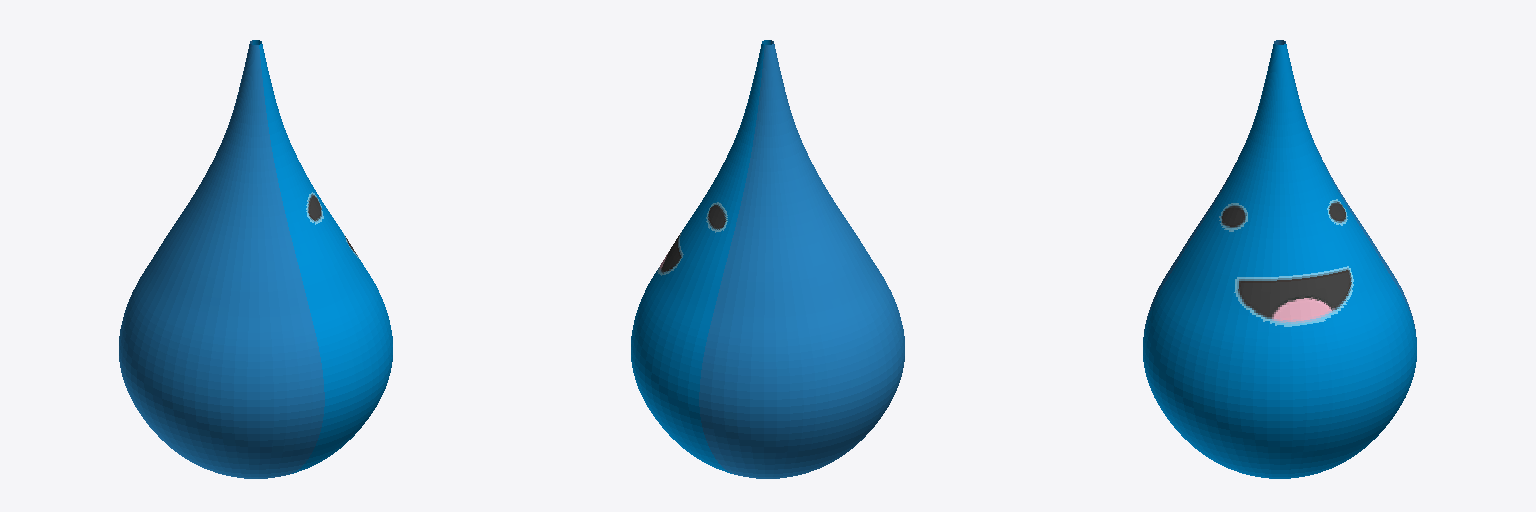
3 views of the same model, side by side, from view 1: azimuth 30°, elevation 25°; view 2: azimuth 150°, elevation 25°; view 3: azimuth 270°, elevation 25° (orthographic).
Parts seen in each view (by area): view 1: Circle_Circle.001; view 2: Circle_Circle.001; view 3: Circle_Circle.001.
Part boxes in pixels (bbox=[...]): Circle_Circle.001: bbox=[119, 40, 392, 478]; Circle_Circle.001: bbox=[631, 40, 904, 478]; Circle_Circle.001: bbox=[1143, 40, 1416, 478].
Bounding box in the file's own units: 2.81 × 4.82 × 2.81.
2 materials, 1 textured.